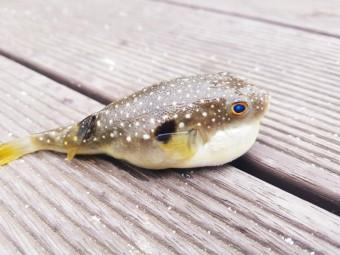fish: (0, 73, 269, 168)
